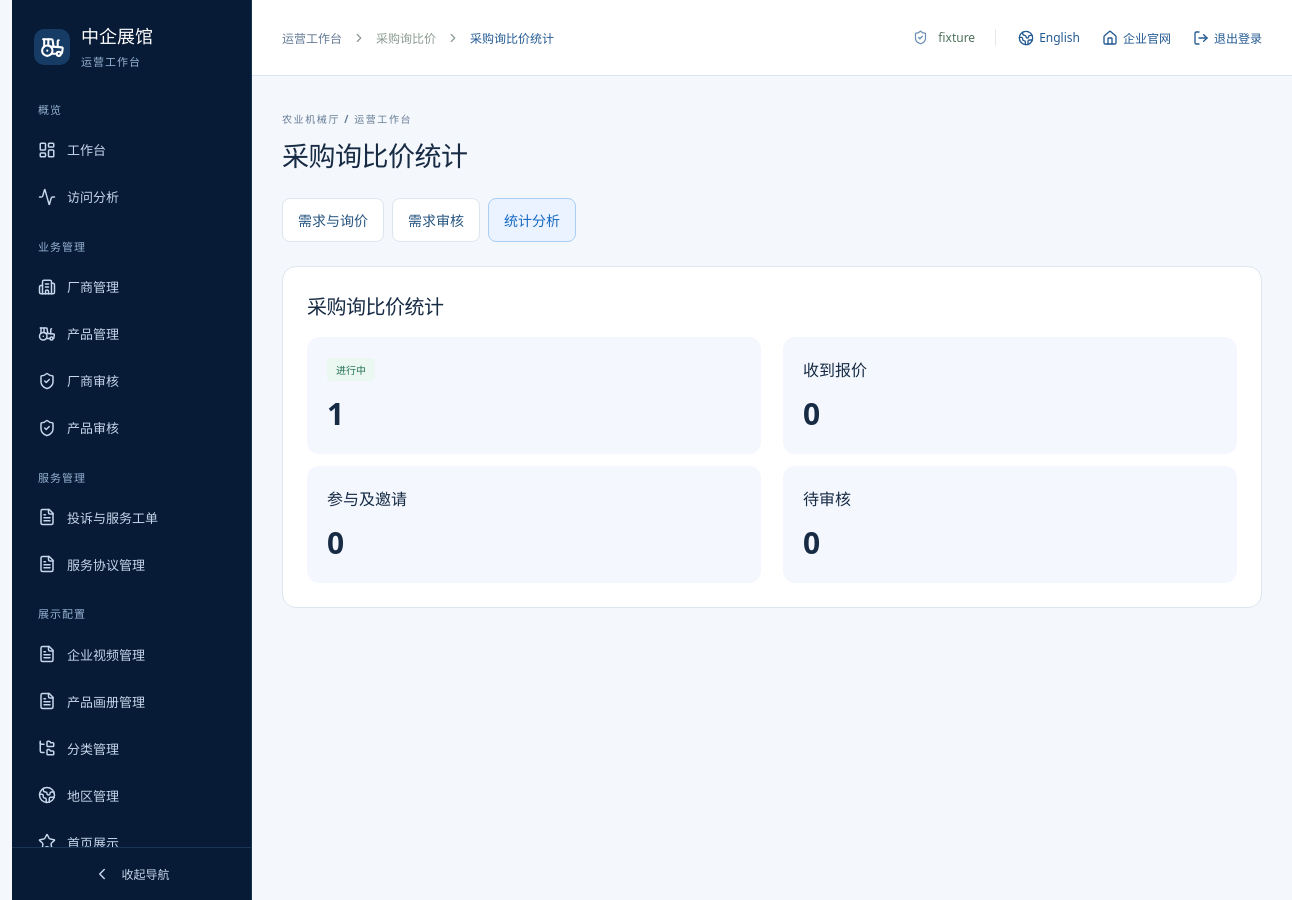
it: uses procurement-specific headings and breadcrumbs with one primary heading
Expected: the heading "采购询比价统计" below "农业机械厅" is shown, [282,137,468,174]
Click the link "需求与询价" at (333, 220), box [282,198,384,242]
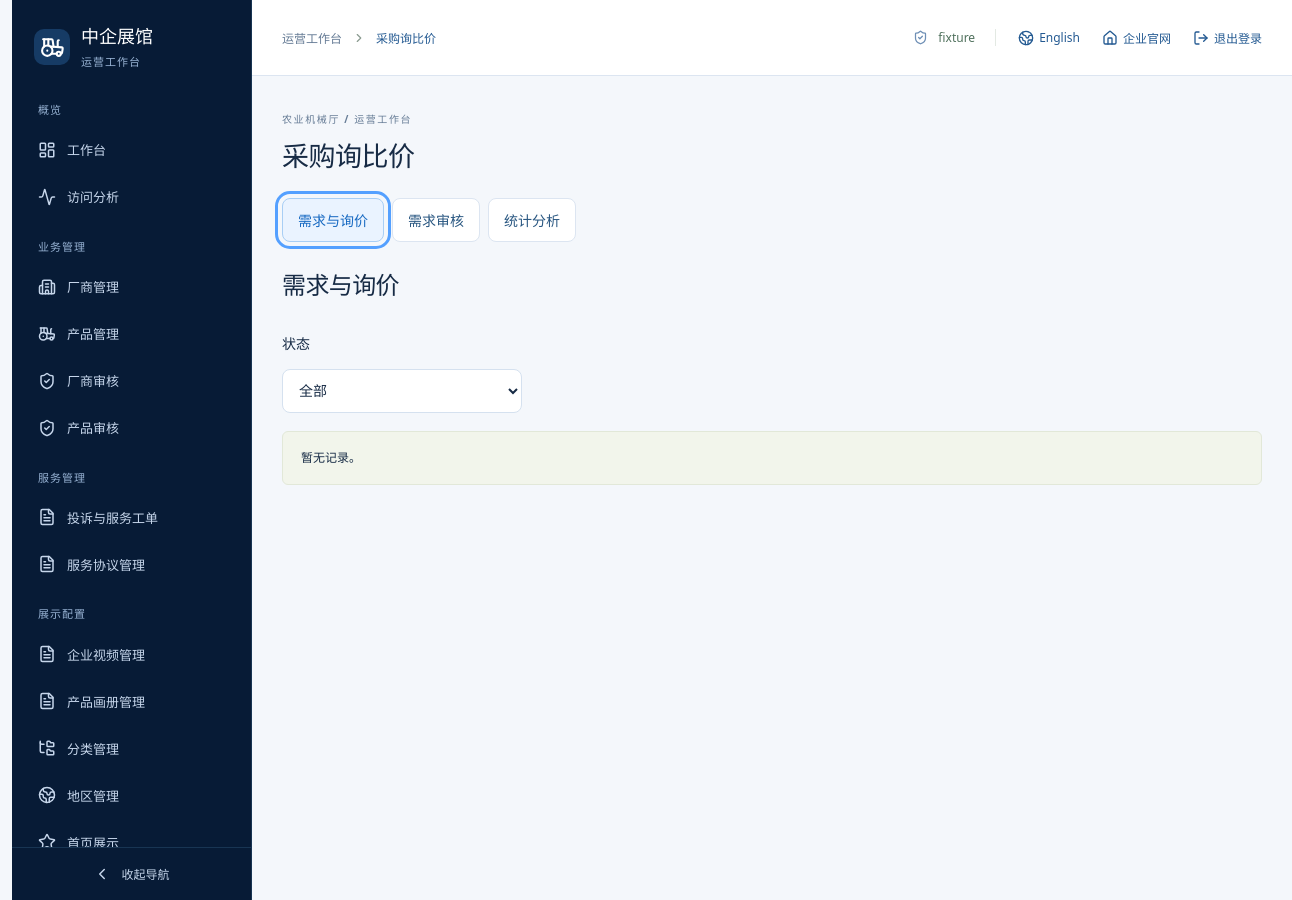
Expected: the heading "需求与询价" is shown, [282,266,399,301]
